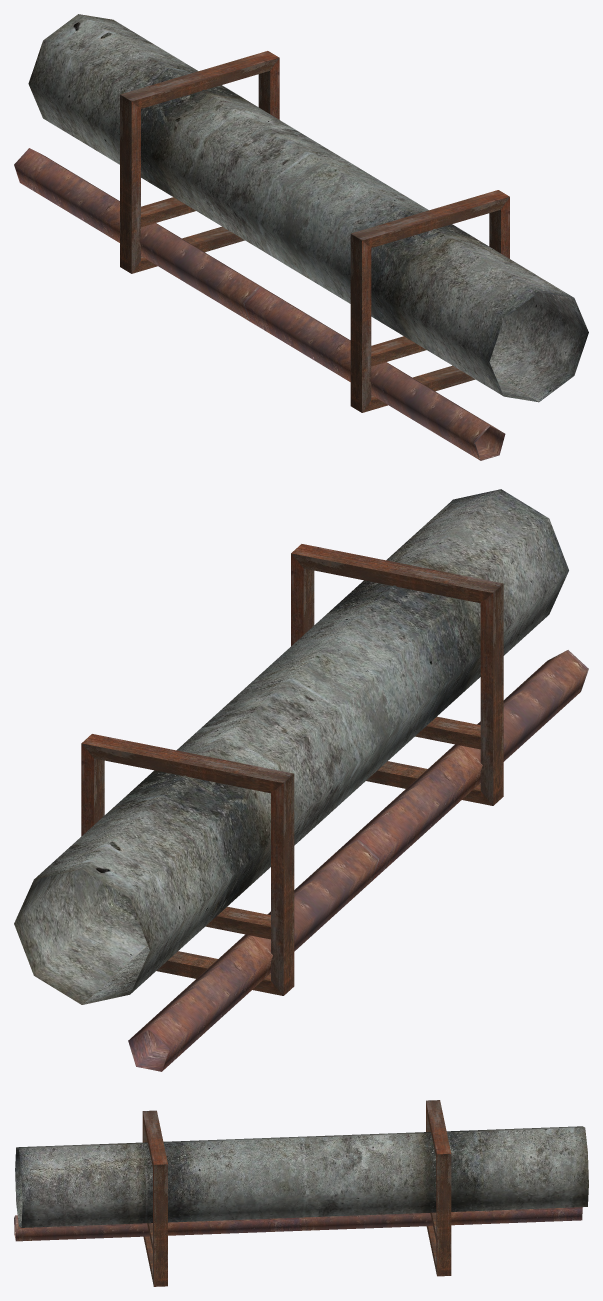
Rendered from Pipes_set_v1_tile_d2.glb.
3 views of the same model, one above another, from view 1: azimuth 30°, elevation 25°; view 2: azimuth 150°, elevation 25°; view 3: azimuth 270°, elevation 25° (orthographic). The views are drawn at different scales.
Visible parts, largest first — view 1: Pipes_set_v1_tile_d2; view 2: Pipes_set_v1_tile_d2; view 3: Pipes_set_v1_tile_d2.
Part boxes in pixels (x1,y1,x2,y2): Pipes_set_v1_tile_d2: [14, 14, 588, 460]; Pipes_set_v1_tile_d2: [14, 489, 588, 1071]; Pipes_set_v1_tile_d2: [14, 1100, 588, 1286].
Bounding box in the file's own units: 1.28 × 1.09 × 4.64.
Materials: 1 (1 with a texture image).
